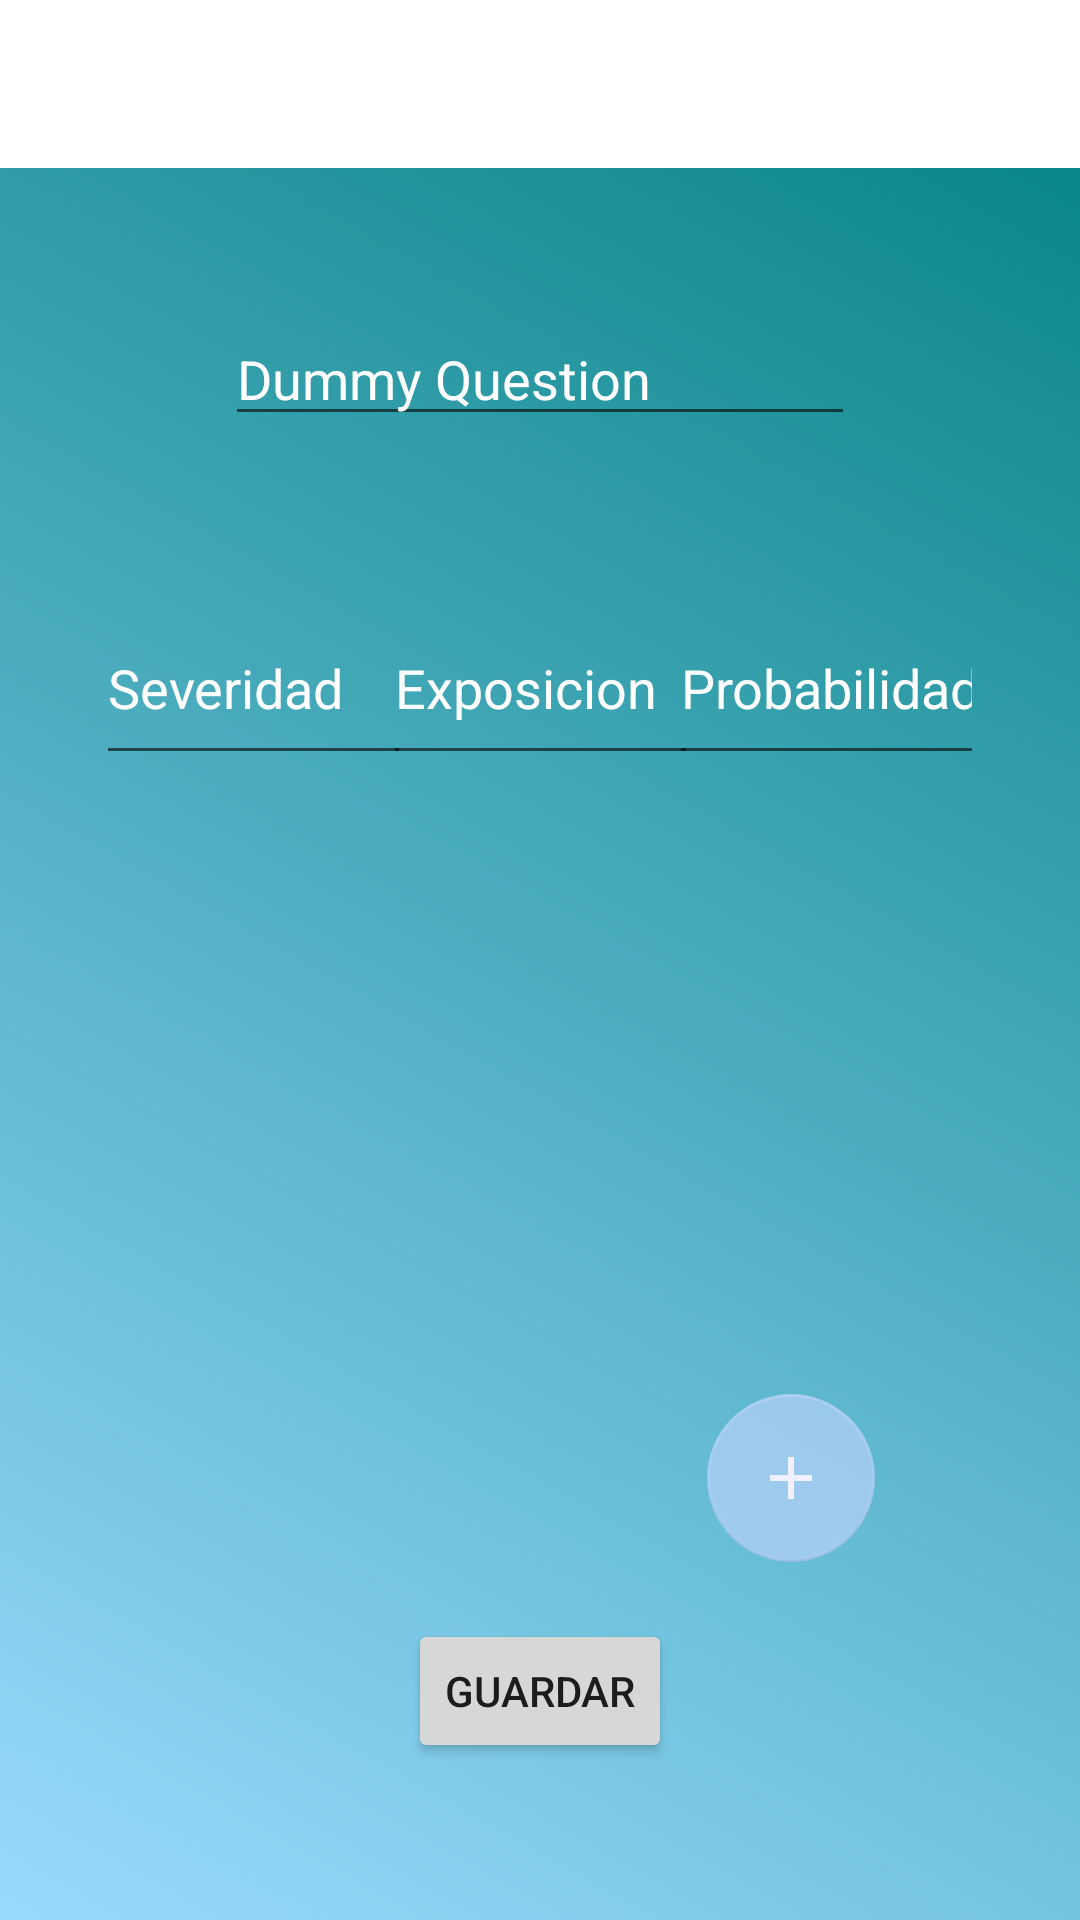

Icons on this 1080x1920 Android screen, each with the point to tap as [x,y]:
add: [791,1478]
